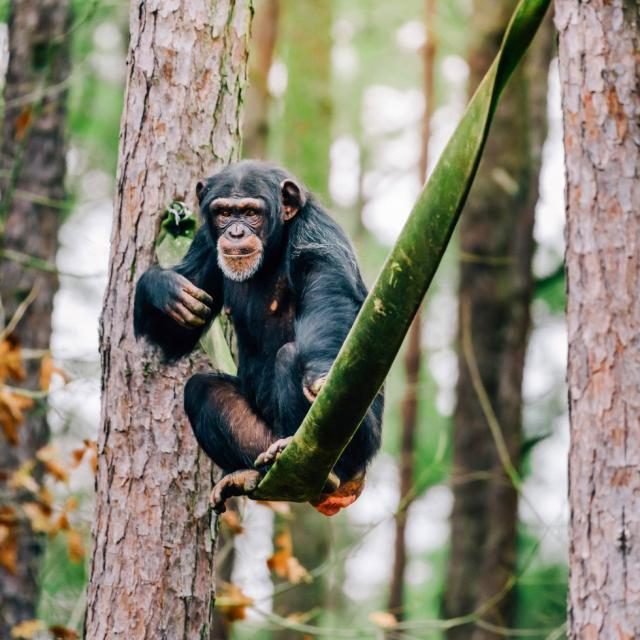chimpanzee: (134, 160, 368, 513), (310, 394, 385, 515)
